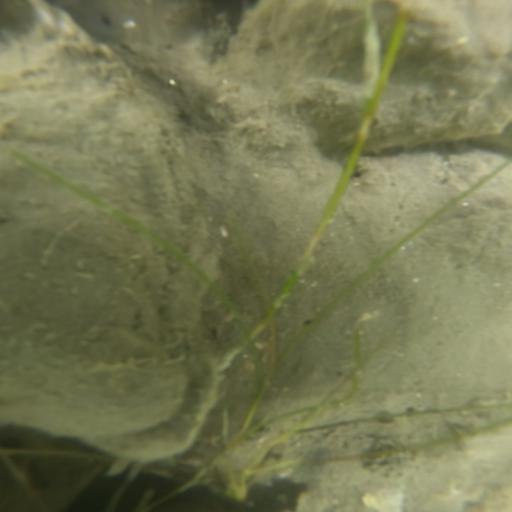Oyster-Closed: (224, 1, 410, 151), (369, 1, 512, 156)
Oyster-Open: (5, 2, 224, 464)
